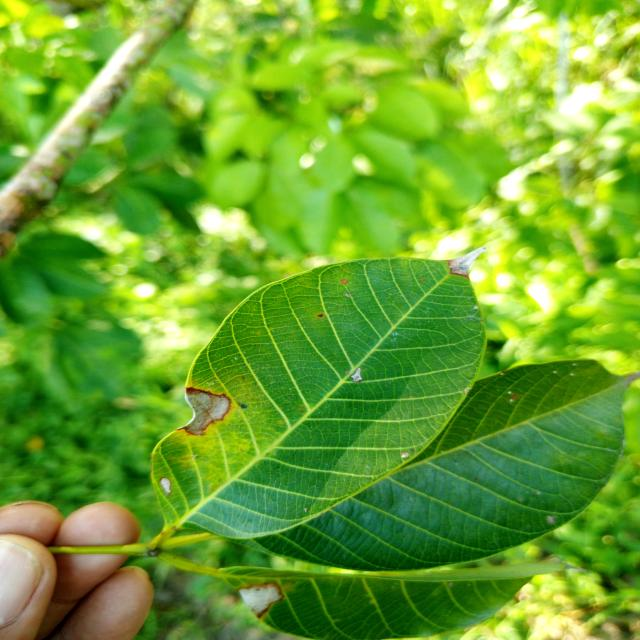Leaf-Blight: (176, 386, 232, 436), (238, 581, 285, 618), (446, 246, 486, 277), (160, 477, 171, 493), (317, 314, 323, 317)
